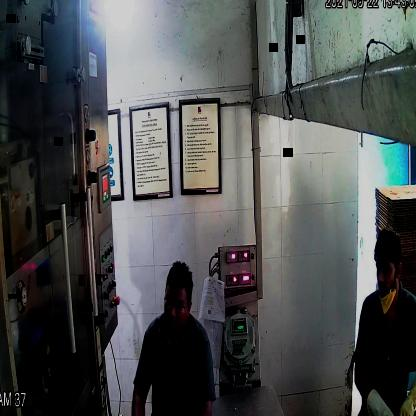goggles: (162, 292, 193, 315)
no_goggles: (372, 258, 397, 278)
